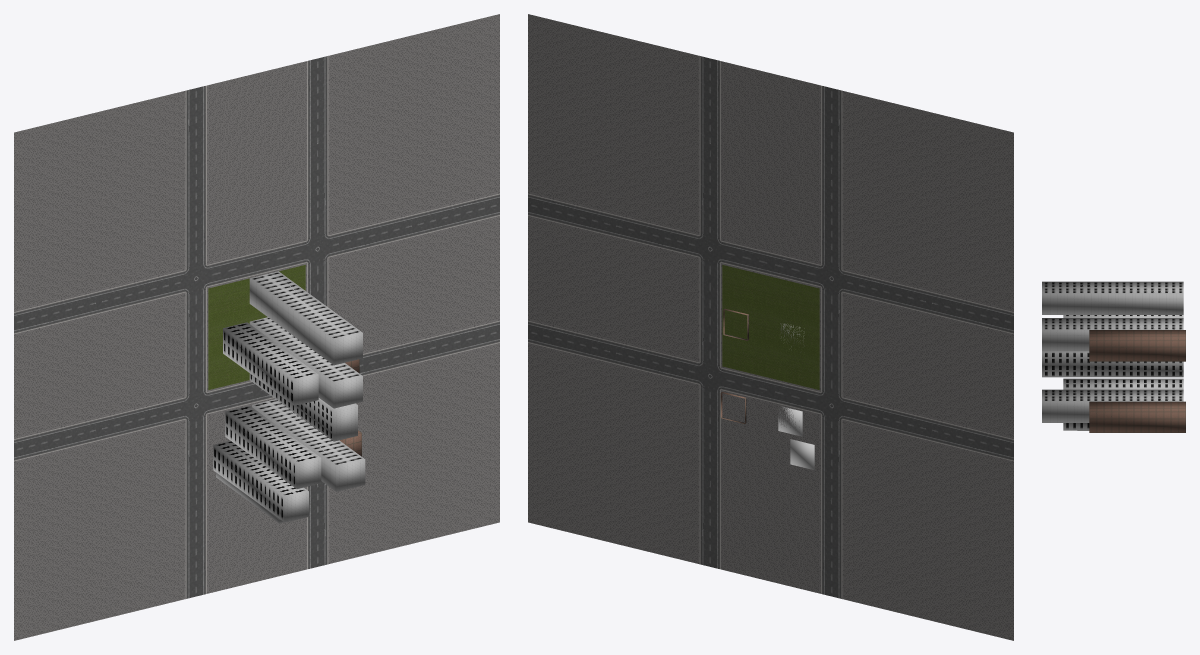
The model's file is stage-2-1.fbx.
3 renders of one model, left to right at view 1: azimuth 30°, elevation 25°; view 2: azimuth 150°, elevation 25°; view 3: azimuth 270°, elevation 25°, orthographic. The views are drawn at different scales.
Parts seen in each view (by area): view 1: Ground; view 2: Ground; view 3: Ground.
Part boxes in pixels (<box>): Ground: <box>14,14,499,640</box>; Ground: <box>528,14,1013,640</box>; Ground: <box>1042,281,1185,432</box>.
Bounding box in the file's own units: 200 × 200 × 61.
14 materials, 13 textured.
